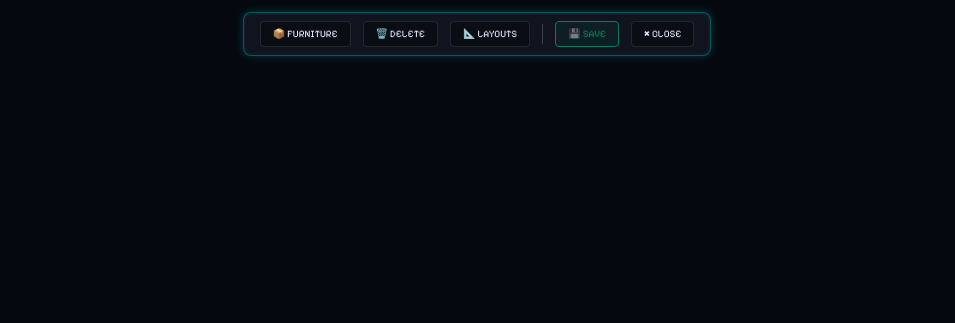
Scenario: LayoutEditor searchable furniture palette › distinguishes an empty catalog from a query with no matches
Click the button titled "Furniture palette".
click(305, 34)  # box [260, 21, 351, 47]
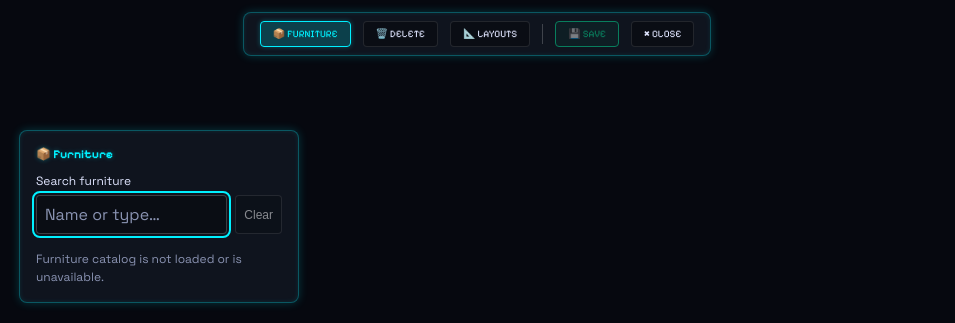
Expected: the button with aria-label "Clear furniture search" is disabled, [235, 195, 282, 234]
Type "plant" into the search field labelled "Search furniture".
click(132, 214); type("plant")  # box [36, 195, 227, 234]
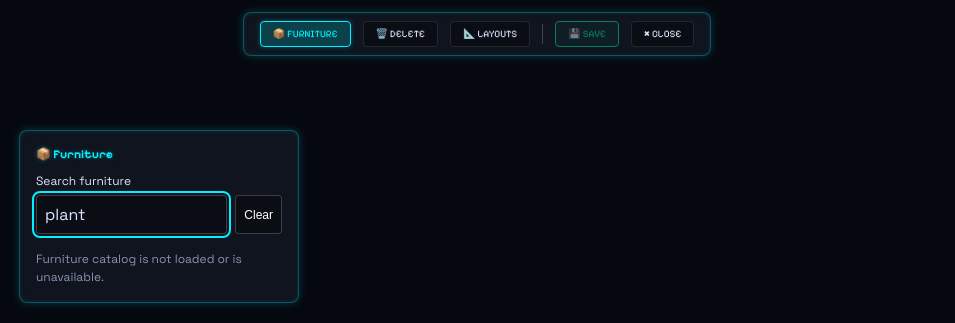
Click the button titled "Layout manager".
click(490, 34)  # box [450, 21, 530, 47]
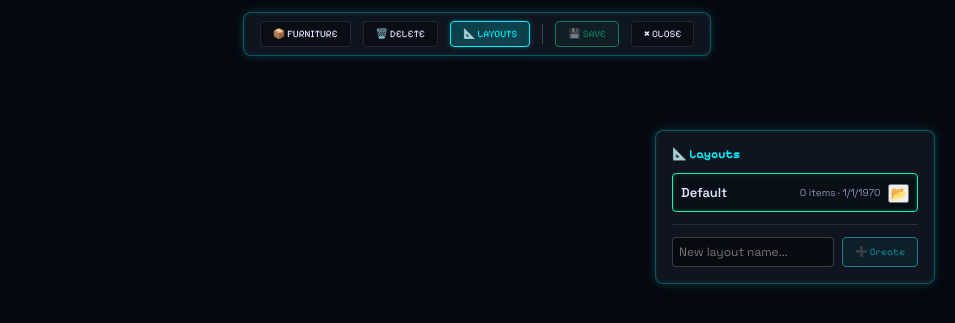
Click the button titled "Furniture palette".
click(305, 34)  # box [260, 21, 351, 47]
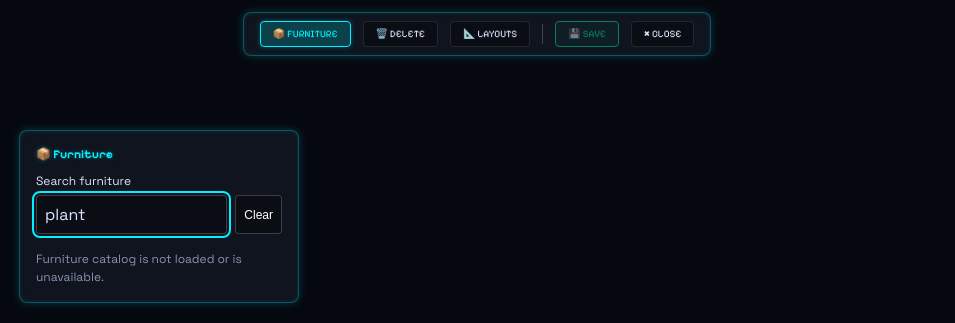
Expected: the search field labelled "Search furniture" holds "plant", [36, 195, 227, 234]
